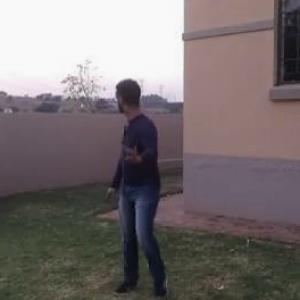takeoff-hand: (119, 136, 149, 166)
